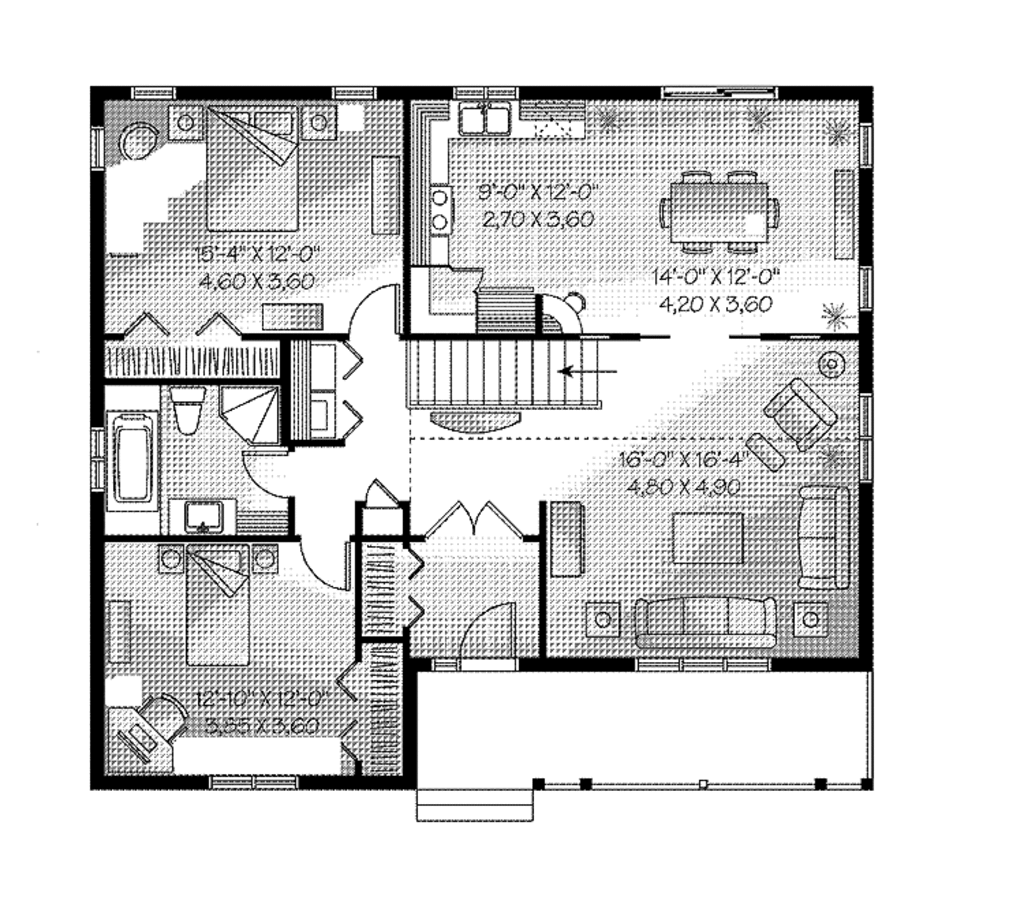bed: (195, 100, 294, 234), (175, 545, 260, 672)
dining_table: (662, 162, 792, 260)
door: (452, 598, 525, 675), (417, 498, 525, 543), (290, 534, 364, 597), (243, 445, 301, 502), (347, 280, 403, 339)
large_sink: (158, 379, 207, 442)
large_sofa: (632, 586, 780, 650), (795, 475, 847, 594)
sink: (175, 494, 248, 524)
small_sofa: (758, 377, 838, 457)
stairs: (404, 335, 634, 434)
tub: (99, 398, 164, 519)
twin_sink: (459, 97, 532, 139)
window: (659, 80, 795, 110), (200, 771, 300, 793), (330, 77, 389, 101), (856, 121, 880, 173), (126, 79, 177, 101), (89, 125, 104, 179), (858, 268, 871, 309)
